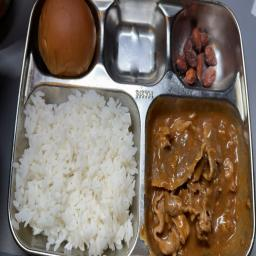100_beef: (148, 105, 243, 256)
100_bread: (36, 0, 97, 77)
100_rice: (20, 80, 136, 250)
50_nuts: (174, 7, 228, 88)
empty: (104, 3, 160, 81)
